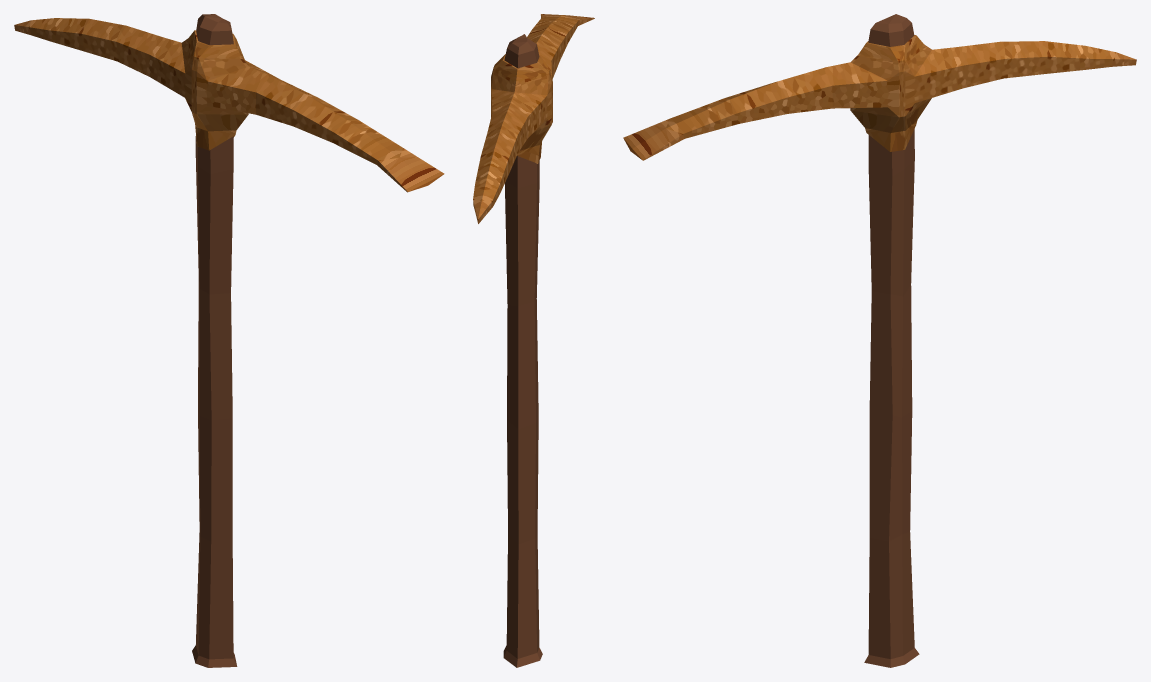
The model's file is pickaxe_rusty.glb.
3 views of the same model, side by side, from view 1: azimuth 30°, elevation 25°; view 2: azimuth 150°, elevation 25°; view 3: azimuth 270°, elevation 25° (orthographic). The views are drawn at different scales.
Visible parts, largest first — view 1: PickAxeV12; view 2: PickAxeV12; view 3: PickAxeV12.
Boxes of the visible parts, <box> form: PickAxeV12: <box>14,14,444,667</box>; PickAxeV12: <box>473,14,594,667</box>; PickAxeV12: <box>623,14,1136,667</box>.
Bounding box in the file's own units: 0.2794 × 0.9399 × 0.683.
Materials: 3 (3 with a texture image).
